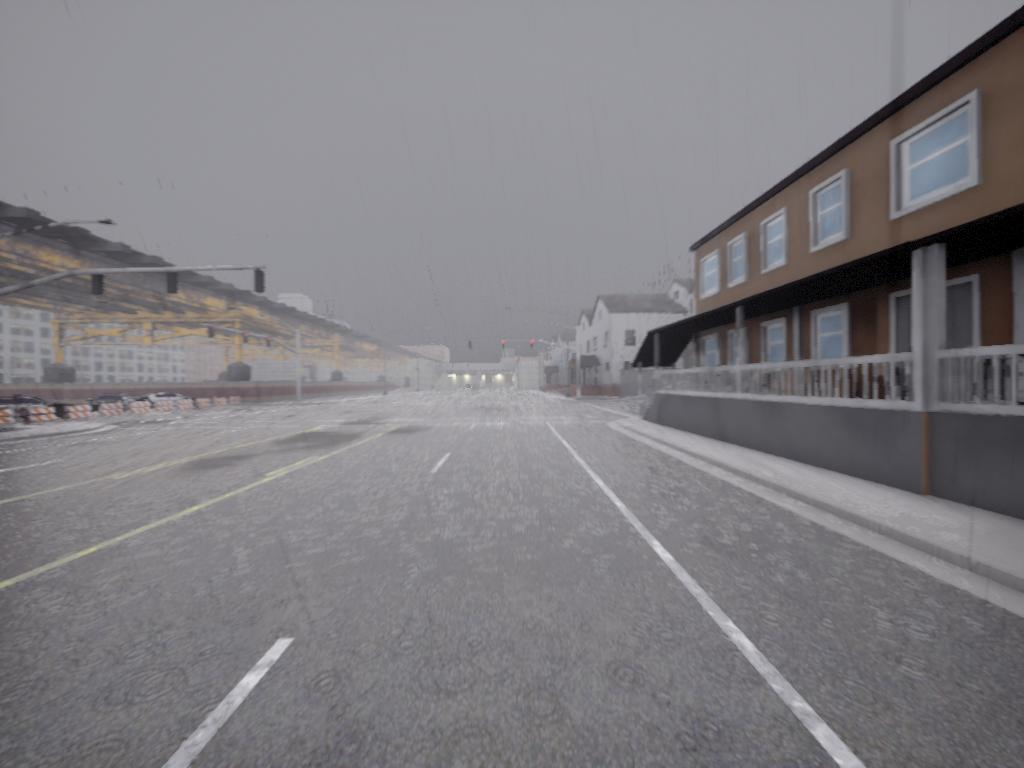traffic_light: (90, 273, 106, 302), (165, 271, 178, 297), (255, 270, 265, 300), (208, 326, 216, 340), (243, 334, 251, 347), (268, 336, 273, 348), (469, 340, 474, 352), (501, 340, 506, 351), (531, 341, 536, 352)
